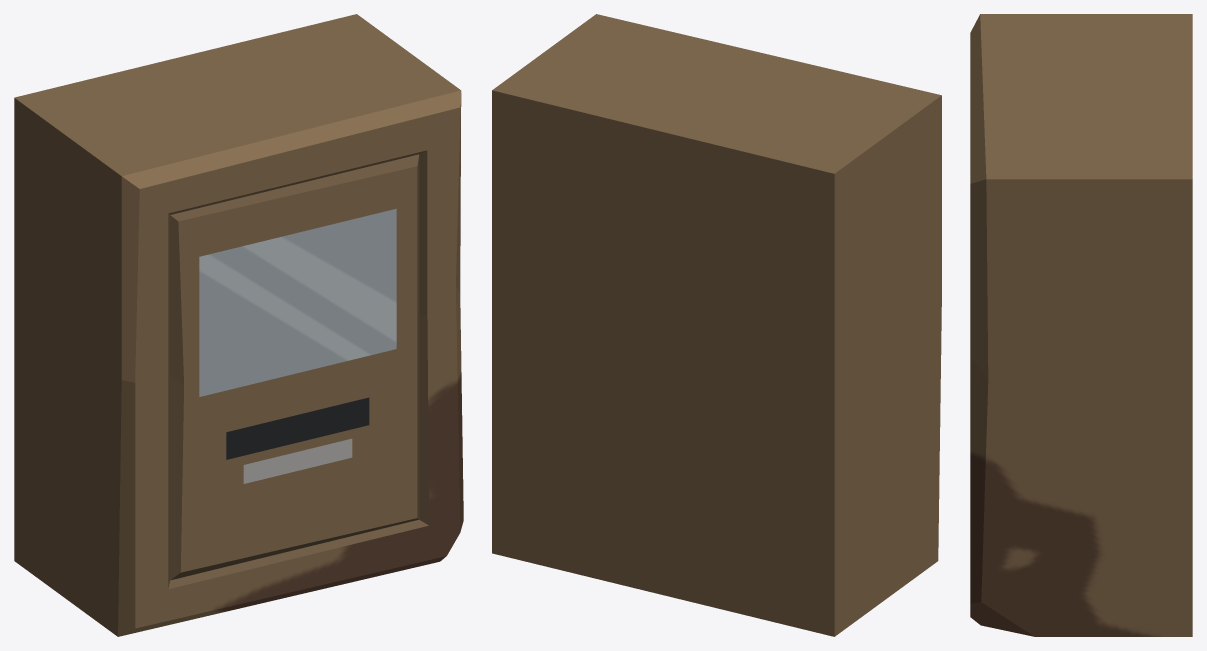
File: SM_Prop_Pipe_Valve_Box_01.fbx
3 views of the same model, side by side, from view 1: azimuth 30°, elevation 25°; view 2: azimuth 150°, elevation 25°; view 3: azimuth 270°, elevation 25° (orthographic).
Parts seen in each view (by area): view 1: SM_Prop_Pipe_Valve_Box_01; view 2: SM_Prop_Pipe_Valve_Box_01; view 3: SM_Prop_Pipe_Valve_Box_01.
Part boxes in pixels (left/top/right/bottom): SM_Prop_Pipe_Valve_Box_01: left=14, top=14, right=463, bottom=636; SM_Prop_Pipe_Valve_Box_01: left=492, top=14, right=941, bottom=636; SM_Prop_Pipe_Valve_Box_01: left=970, top=14, right=1192, bottom=636.
Bounding box in the file's own units: 72.08 × 93.14 × 40.95.
